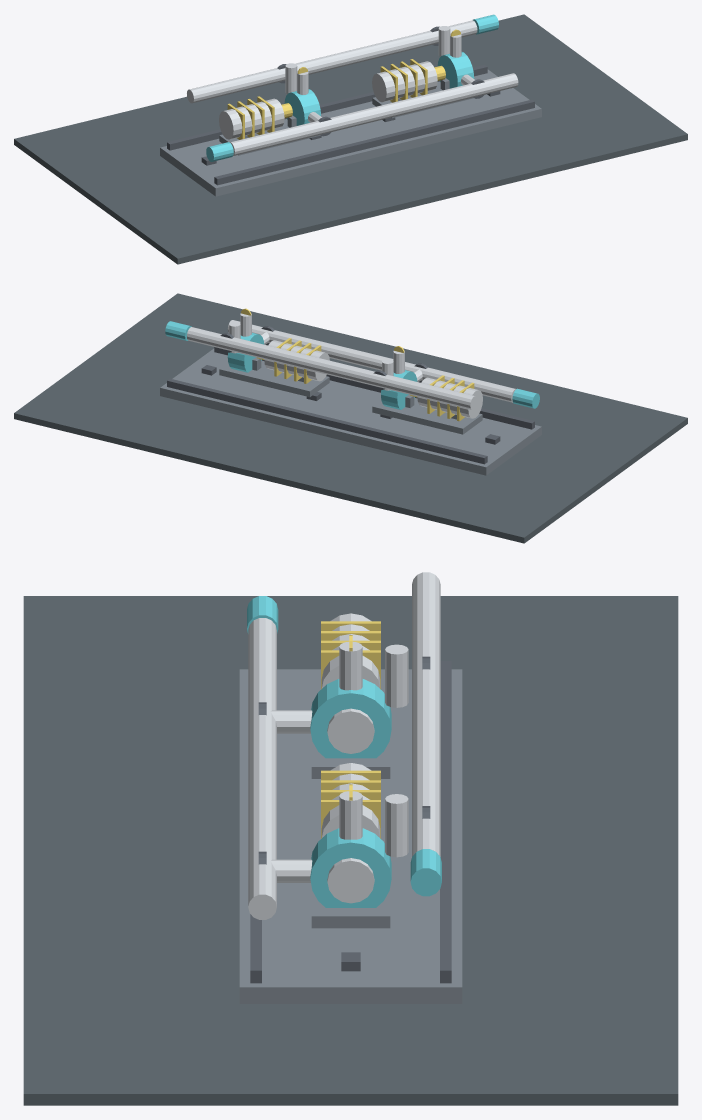
The picture shows the model from 3 angles, top to bottom: view 1: azimuth 30°, elevation 25°; view 2: azimuth 150°, elevation 25°; view 3: azimuth 270°, elevation 25°; orthographic projection. The views are drawn at different scales.
Visible parts, largest first — view 1: Ground, SkidFrame, SuctionHeader, DischargeHeader, RailRight, PumpA_Motor, PumpB_Motor, RailLeft, PumpB_PumpVolute, PumpA_PumpVolute, HeaderNozzleLeftIn; view 2: Ground, SkidFrame, DischargeHeader, RailLeft, SuctionHeader, PumpA_Base, PumpB_Base, PumpA_Motor, RailRight, PumpB_Motor, PumpB_PumpVolute, PumpA_PumpVolute (+1 smaller); view 3: Ground, SkidFrame, SuctionHeader, DischargeHeader, RailLeft, PumpA_PumpVolute, PumpB_PumpVolute, PumpB_Base, PumpB_ImpellerCover, PumpA_ImpellerCover, PumpA_Base, DischargeBranch_-2.7 (+9 smaller).
Boxes of the visible parts, x1,y1,x2,y2 form: Ground: (14,14,687,264); SkidFrame: (160,69,541,196); SuctionHeader: (230,73,518,155); DischargeHeader: (187,20,477,103); RailRight: (214,99,534,185); PumpA_Motor: (219,98,284,139); PumpB_Motor: (372,61,437,102); RailLeft: (167,65,487,150); PumpB_PumpVolute: (437,52,474,88); PumpA_PumpVolute: (284,89,320,125); HeaderNozzleLeftIn: (206,142,233,161); Ground: (14,293,687,543); SkidFrame: (160,348,541,475); DischargeHeader: (187,327,477,409); RailLeft: (167,378,487,464); SuctionHeader: (227,320,516,402); PumpA_Base: (372,398,482,434); PumpB_Base: (219,360,329,397); PumpA_Motor: (417,377,482,418); RailRight: (214,347,534,429); PumpB_Motor: (264,340,329,381); PumpB_PumpVolute: (227,332,264,372); PumpA_PumpVolute: (381,370,417,409); Ground: (23,596,678,1105); SkidFrame: (239,669,462,1003); SuctionHeader: (248,618,276,919); DischargeHeader: (412,572,440,856); RailLeft: (440,661,451,983); PumpA_PumpVolute: (310,679,391,758); PumpB_PumpVolute: (310,828,391,907); PumpB_Base: (311,828,390,928); PumpB_ImpellerCover: (327,858,374,903); PumpA_ImpellerCover: (327,708,374,753); PumpA_Base: (311,678,390,778); DischargeBranch_-2.7: (385,644,408,707).
Bounding box in the file's own units: 18 × 2.93 × 10.
